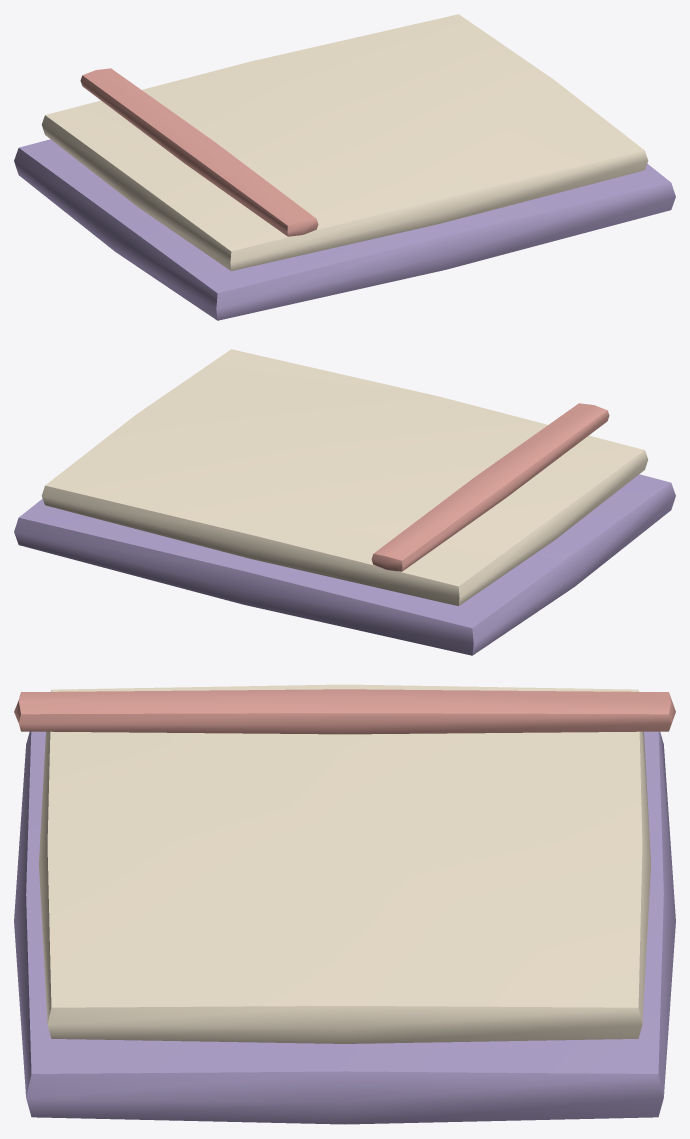
File: notebook.glb
3 renders of one model, top to bottom at view 1: azimuth 30°, elevation 25°; view 2: azimuth 150°, elevation 25°; view 3: azimuth 270°, elevation 25°, orthographic. The views are drawn at different scales.
Visible parts, largest first — view 1: part (×3); view 2: part (×3); view 3: part (×3).
Boxes of the visible parts, x1=… form: part (×3): x1=14, y1=14, x2=675, y2=320; part (×3): x1=14, y1=349, x2=675, y2=655; part (×3): x1=14, y1=684, x2=675, y2=1124.
Size of the model in its own units: 0.26 by 0.05 by 0.2.
1 material, 1 textured.
